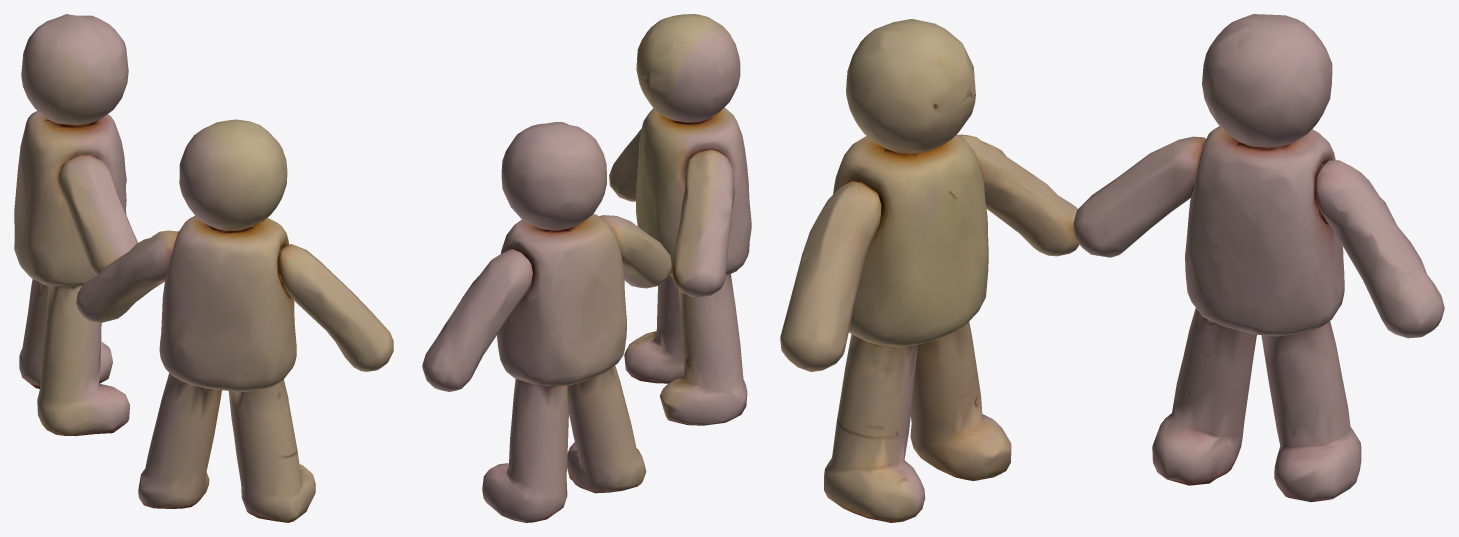
Rendered from friends.glb.
3 renders of one model, left to right at view 1: azimuth 30°, elevation 25°; view 2: azimuth 150°, elevation 25°; view 3: azimuth 270°, elevation 25°, orthographic. The views are drawn at different scales.
Parts seen in each view (by area): view 1: tripo_node_b6400727-db7b-4453-a71f-3a28df4d4ddb; view 2: tripo_node_b6400727-db7b-4453-a71f-3a28df4d4ddb; view 3: tripo_node_b6400727-db7b-4453-a71f-3a28df4d4ddb.
Part boxes in pixels (left/top/right/bottom): tripo_node_b6400727-db7b-4453-a71f-3a28df4d4ddb: left=14, top=14, right=393, bottom=522; tripo_node_b6400727-db7b-4453-a71f-3a28df4d4ddb: left=422, top=14, right=751, bottom=522; tripo_node_b6400727-db7b-4453-a71f-3a28df4d4ddb: left=780, top=14, right=1444, bottom=522.
Size of the model in its own units: 0.4443 by 0.7687 by 1.
1 material, 1 textured.
